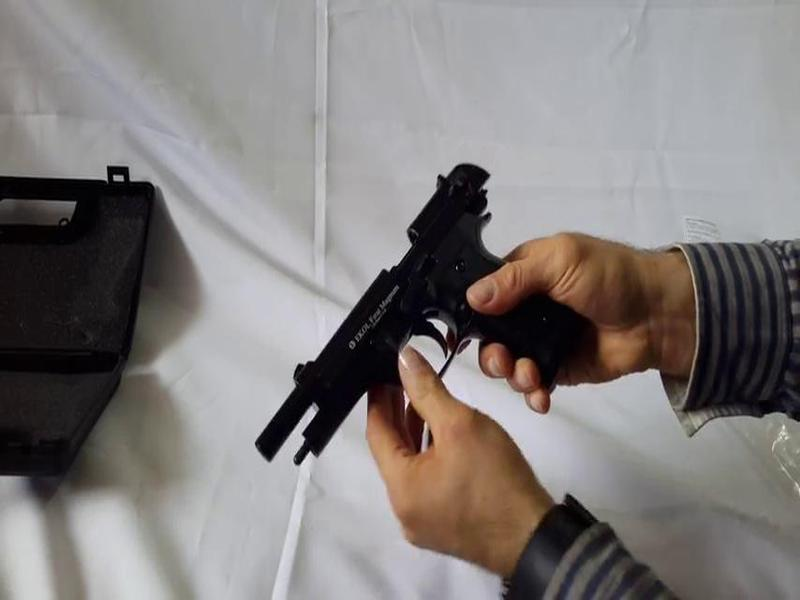Pistola: (240, 154, 606, 523)
